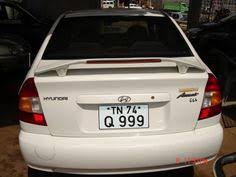T: (110, 106, 117, 115)
